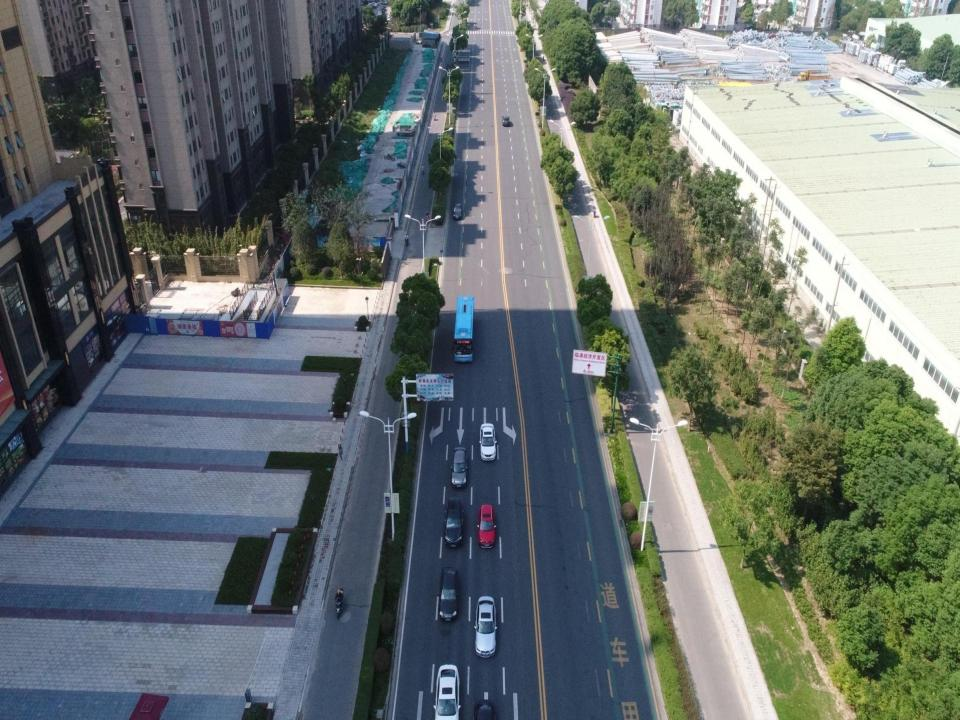bus: (453, 293, 475, 364)
car: (432, 662, 462, 720), (475, 594, 496, 659), (438, 566, 458, 624), (443, 495, 464, 548), (477, 502, 496, 548), (479, 422, 495, 464), (451, 445, 466, 487), (452, 202, 462, 219), (502, 114, 510, 126)
